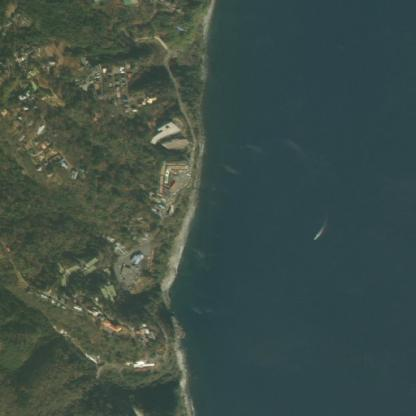ship: (307, 231, 323, 242)
